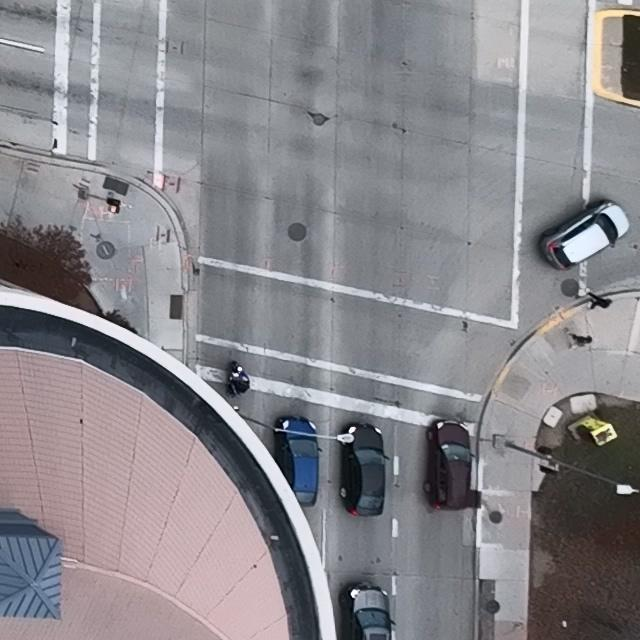car: (541, 199, 629, 271), (340, 422, 391, 517), (424, 419, 476, 510), (272, 416, 324, 506), (339, 582, 395, 640)
